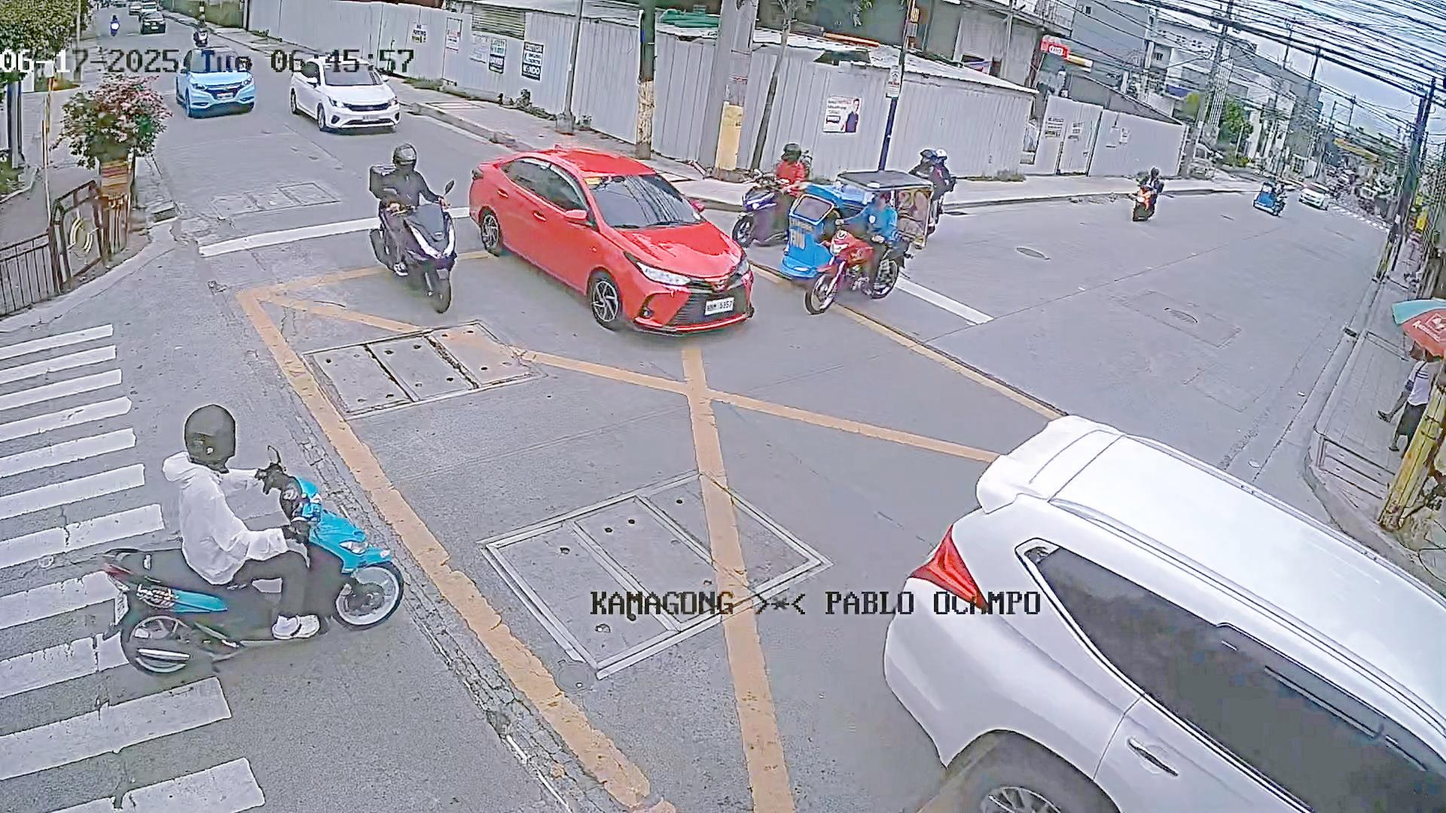Car: (810, 361, 1446, 813), (468, 121, 759, 369), (279, 49, 413, 127), (157, 37, 264, 125), (1297, 171, 1335, 229)
Motor: (93, 408, 429, 657), (355, 133, 470, 345), (804, 235, 984, 321), (729, 161, 774, 258), (1113, 155, 1166, 235)
